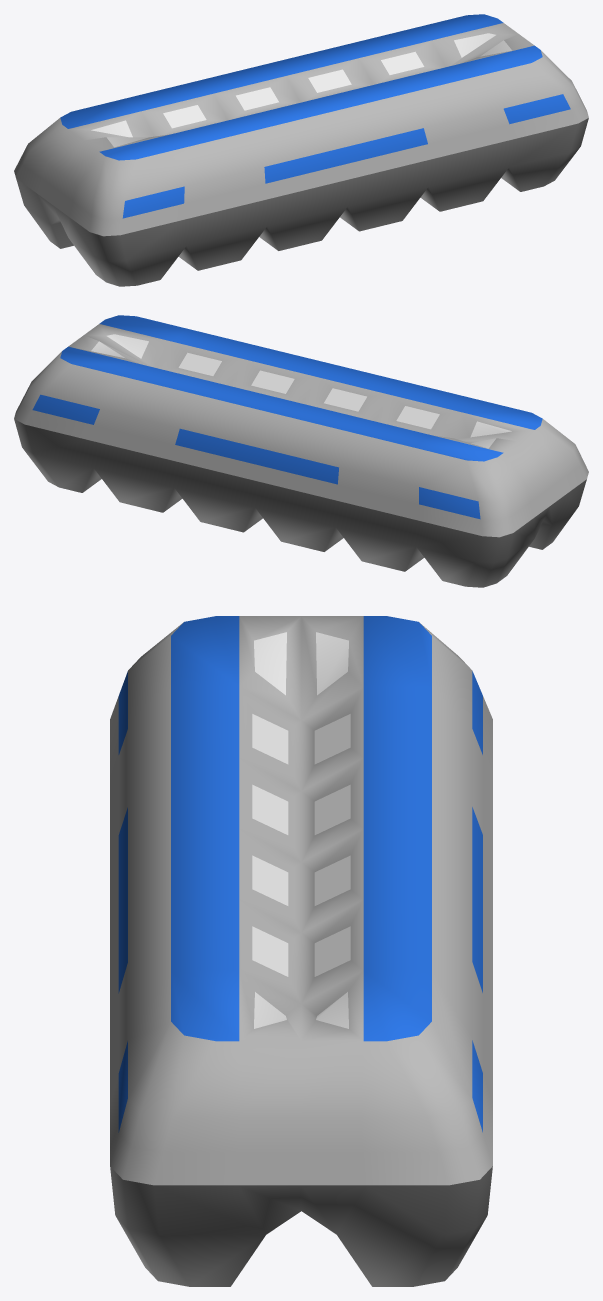
Rendered from eggs.glb.
The picture shows the model from 3 angles, top to bottom: view 1: azimuth 30°, elevation 25°; view 2: azimuth 150°, elevation 25°; view 3: azimuth 270°, elevation 25°; orthographic projection. The views are drawn at different scales.
Parts seen in each view (by area): view 1: eggs; view 2: eggs; view 3: eggs.
Boxes of the visible parts, left/top/right/bottom form: eggs: left=14, top=14, right=588, bottom=286; eggs: left=14, top=315, right=588, bottom=587; eggs: left=110, top=616, right=492, bottom=1286.
Size of the model in its own units: 0.3 by 0.07 by 0.1.
